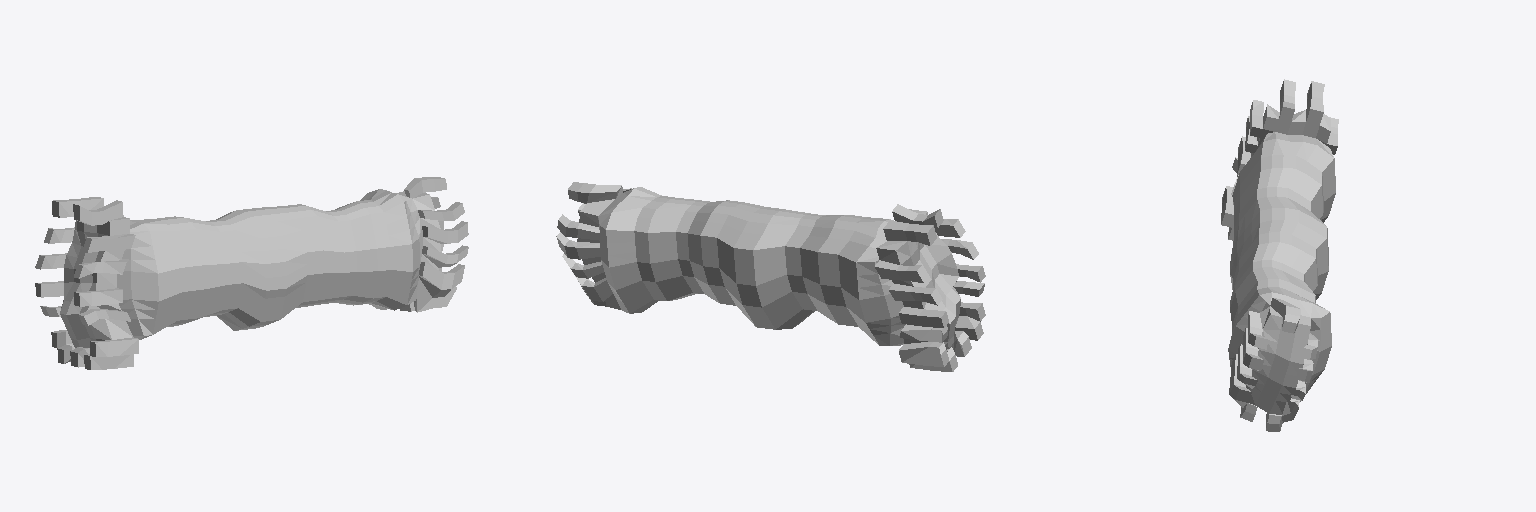
Rendered from bro3.obj.
3 renders of one model, left to right at view 1: azimuth 30°, elevation 25°; view 2: azimuth 150°, elevation 25°; view 3: azimuth 270°, elevation 25°, orthographic.
Visible parts, largest first — view 1: Cube.001; view 2: Cube.001; view 3: Cube.001.
Part boxes in pixels (x1,y1,x2,y2): Cube.001: (35, 177, 468, 369); Cube.001: (556, 182, 985, 371); Cube.001: (1221, 79, 1338, 431).
Size of the model in its own units: 0.382 by 0.1686 by 0.0982.